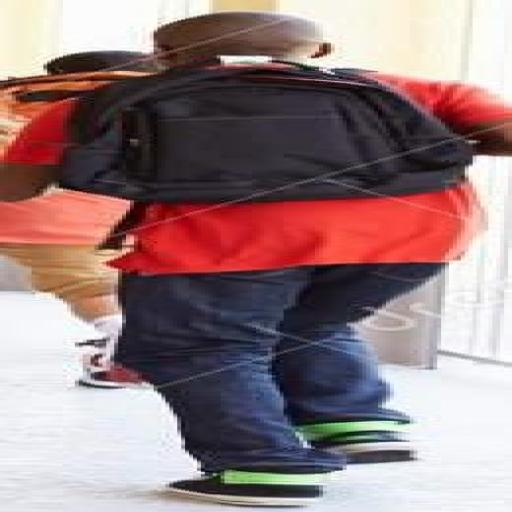person: (115, 183, 480, 506), (0, 190, 141, 388)
